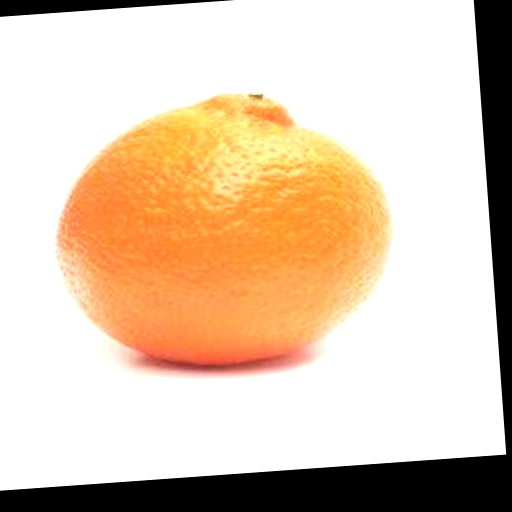fruit: (56, 94, 392, 364)
